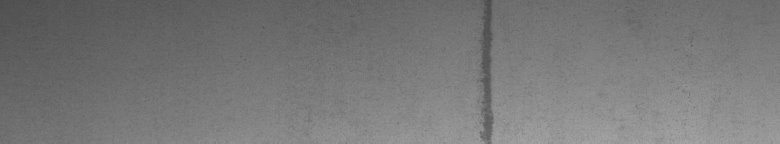hd: (476, 4, 499, 136)
